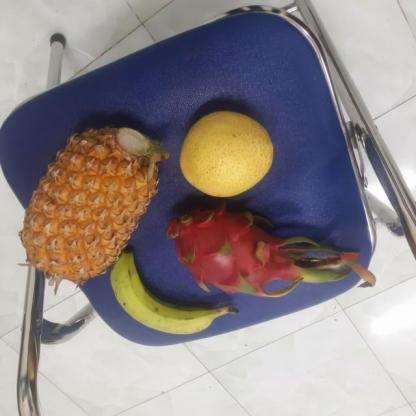banana: (109, 249, 222, 338)
pear: (175, 110, 275, 196)
pineapple: (20, 125, 163, 281)
pitaya: (161, 200, 297, 298)
